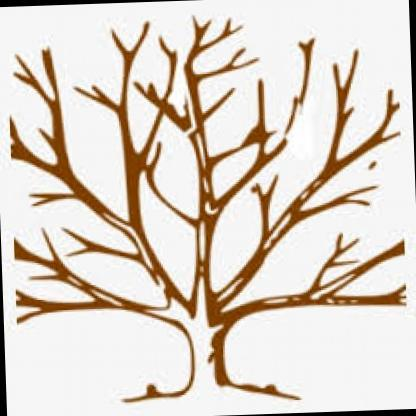trunk_straight: (185, 336, 230, 380)
